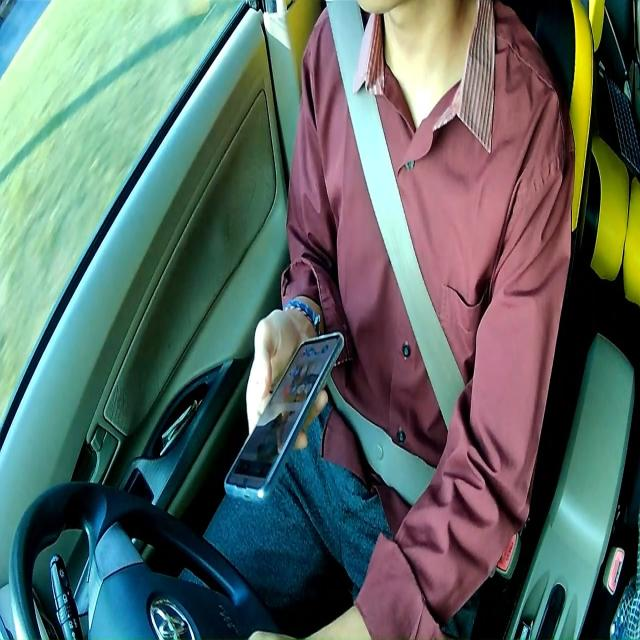phone: (222, 332, 346, 502)
